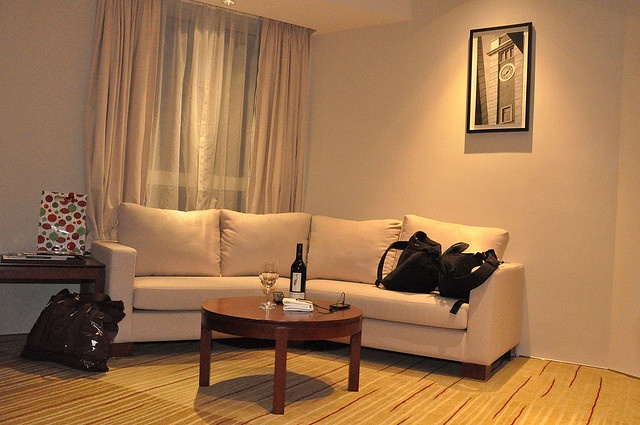bottle: (291, 243, 597, 425)
couch: (89, 199, 615, 425)
